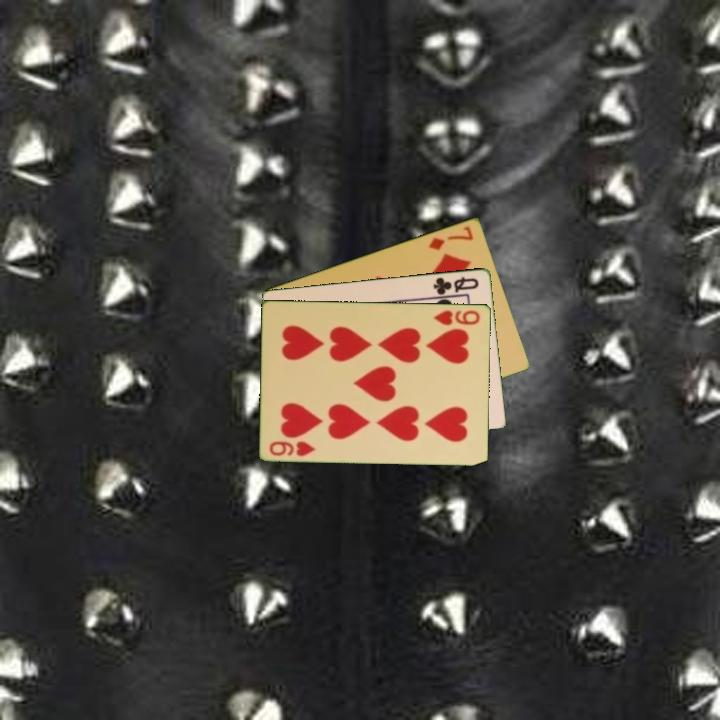7d: (425, 222, 476, 253)
9h: (266, 437, 318, 459), (430, 306, 483, 327)
Qc: (430, 273, 482, 297)
